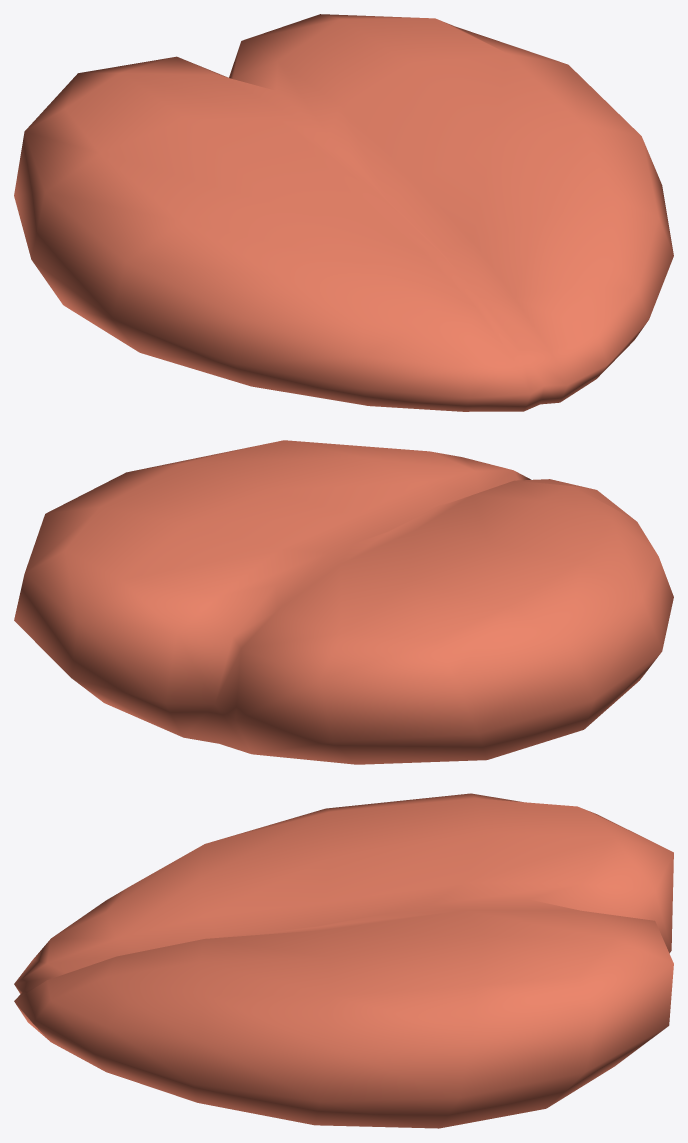
Rendered from Chicken.fbx.
3 views of the same model, one above another, from view 1: azimuth 30°, elevation 25°; view 2: azimuth 150°, elevation 25°; view 3: azimuth 270°, elevation 25° (orthographic). The views are drawn at different scales.
Parts seen in each view (by area): view 1: Cube; view 2: Cube; view 3: Cube.
Part boxes in pixels (bbox=[...]): Cube: bbox=[14, 14, 673, 411]; Cube: bbox=[14, 440, 673, 764]; Cube: bbox=[14, 793, 673, 1128].
Size of the model in its own units: 164 by 45.75 by 177.
